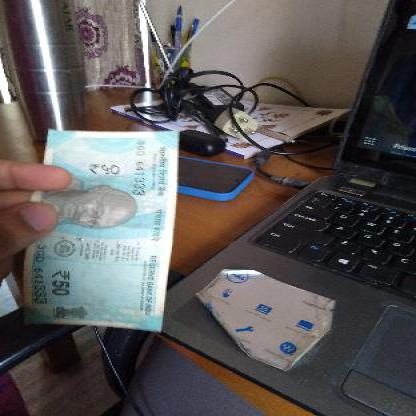New50Front: (35, 129, 180, 329)
